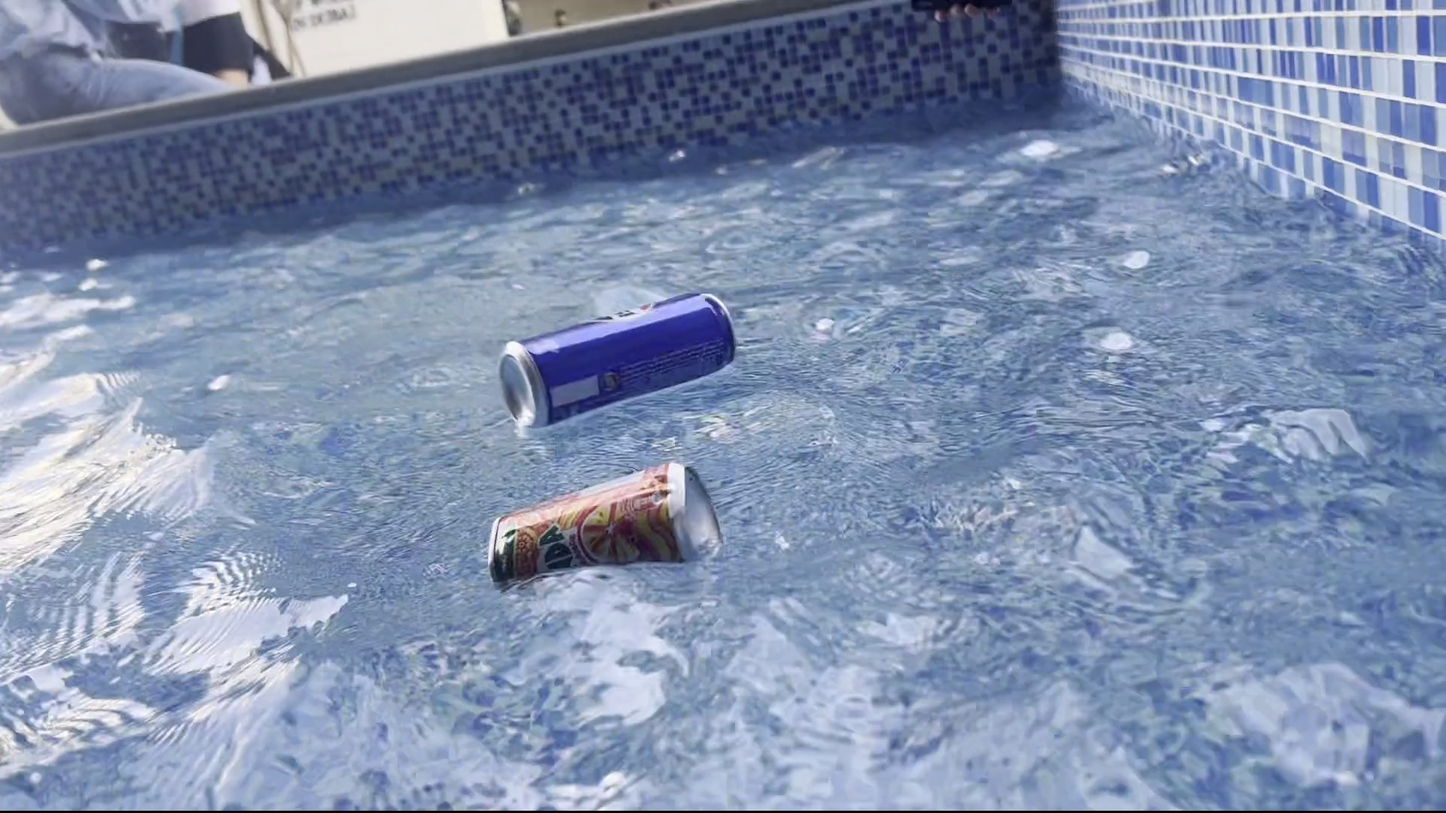debris: (495, 273, 743, 432), (482, 452, 728, 606)
